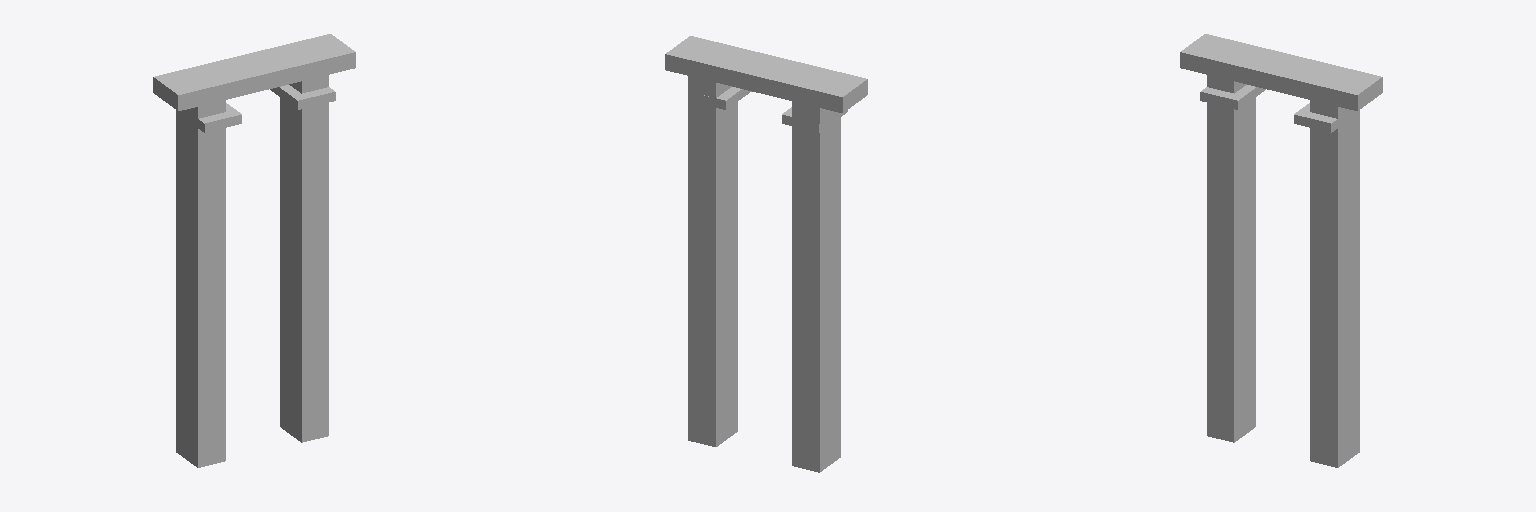
Rendered from stapler_karosse_front.obj.
3 renders of one model, left to right at view 1: azimuth 30°, elevation 25°; view 2: azimuth 150°, elevation 25°; view 3: azimuth 330°, elevation 25°, orthographic.
Visible parts, largest first — view 1: karosse_front_Plane.001; view 2: karosse_front_Plane.001; view 3: karosse_front_Plane.001.
Part boxes in pixels (left/top/right/bottom): karosse_front_Plane.001: left=153, top=34, right=355, bottom=467; karosse_front_Plane.001: left=665, top=36, right=867, bottom=472; karosse_front_Plane.001: left=1180, top=34, right=1382, bottom=467.
Bounding box in the file's own units: 5.95 × 12.22 × 1.63.